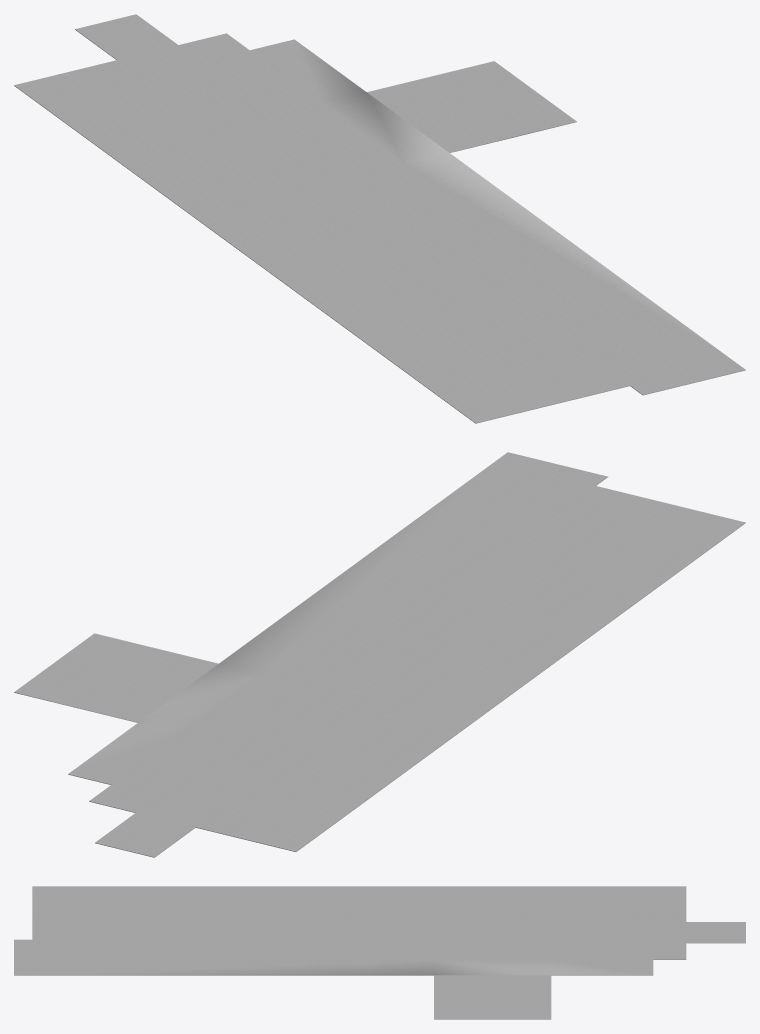
The picture shows the model from 3 angles, top to bottom: view 1: azimuth 30°, elevation 25°; view 2: azimuth 150°, elevation 25°; view 3: azimuth 270°, elevation 25°; orthographic projection. The views are drawn at different scales.
Visible parts, largest first — view 1: SM_地板; view 2: SM_地板; view 3: SM_地板.
Boxes of the visible parts, box(x1,y1,x2,y2) form: SM_地板: box(14, 14, 745, 423); SM_地板: box(14, 452, 745, 857); SM_地板: box(14, 886, 745, 1019).
Size of the model in its own units: 39351 by 50 by 91486.
